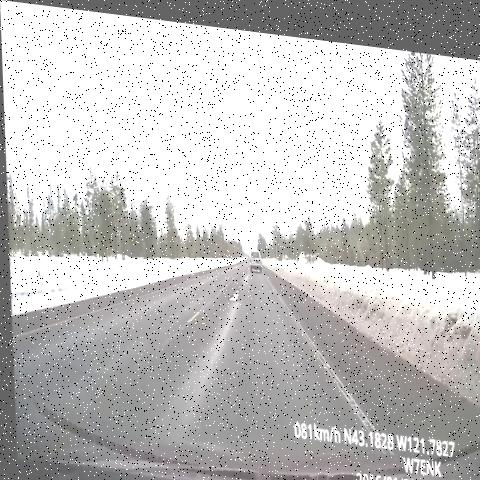pothole: (223, 270, 246, 307)
